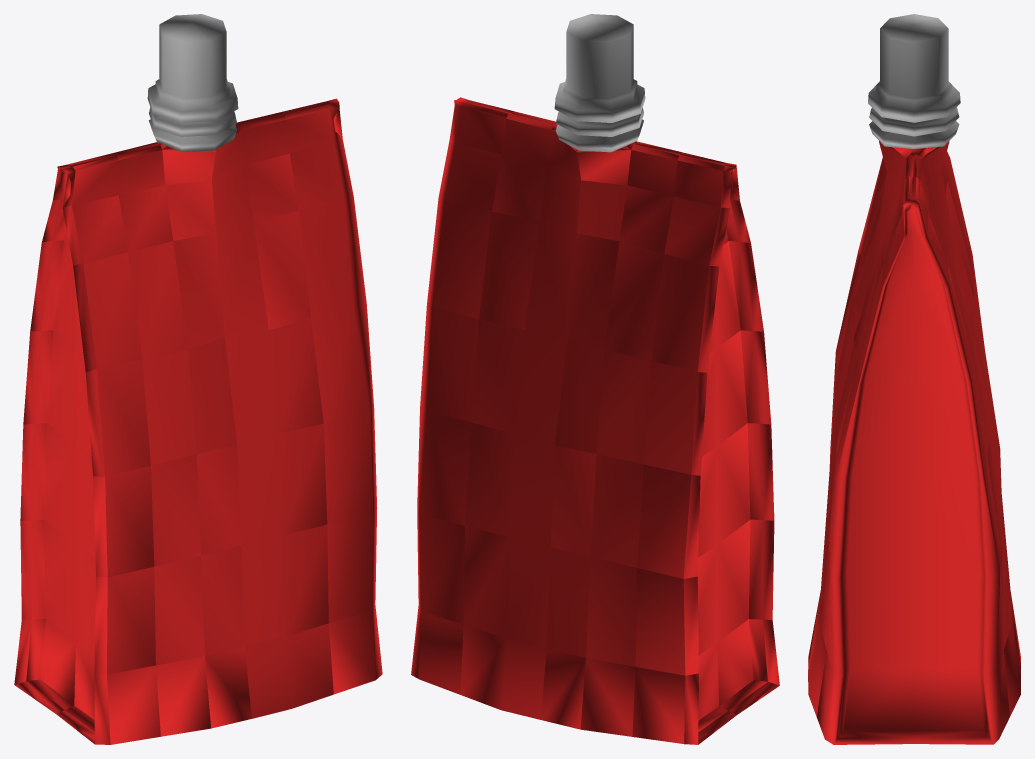
The model's file is Jelly.fbx.
3 renders of one model, left to right at view 1: azimuth 30°, elevation 25°; view 2: azimuth 150°, elevation 25°; view 3: azimuth 270°, elevation 25°, orthographic.
Visible parts, largest first — view 1: Node 0; view 2: Node 0; view 3: Node 0.
Part boxes in pixels (x1,y1,x2,y2): Node 0: (14, 14, 382, 744); Node 0: (411, 14, 779, 744); Node 0: (808, 14, 1020, 744).
Size of the model in its own units: 0.0384 by 0.1294 by 0.0593.
